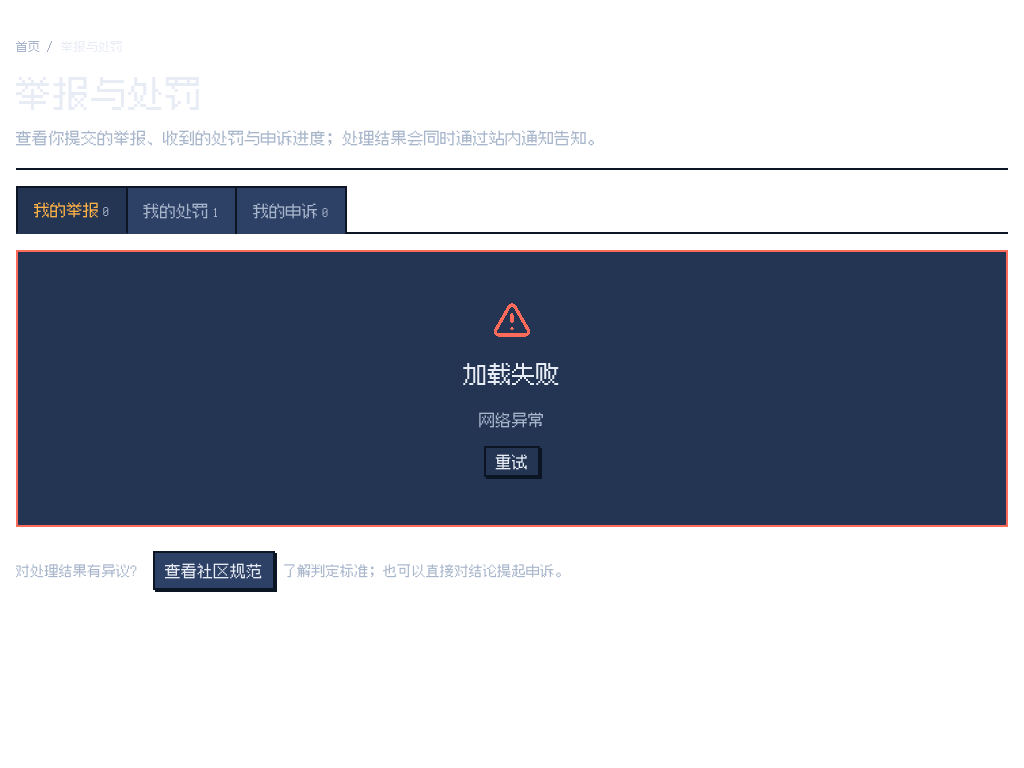
Test: MeModerationPage › 列表加载失败：显示错误态与重试按钮，不影响其他 Tab
Expected: the heading "加载失败" is shown, [463,352,561,394]
Click the tab "我的处罚1".
click(181, 210)  # box [126,186,237,234]
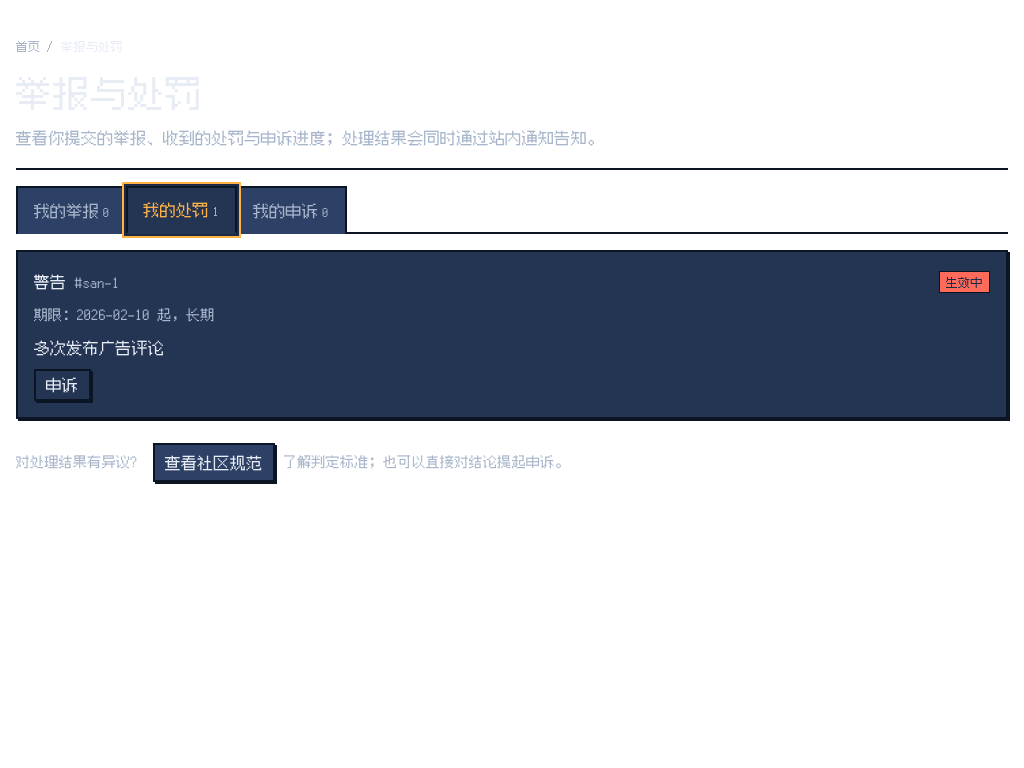
Now the text "多次发布广告评论" is shown, box [34,337,165,358]
